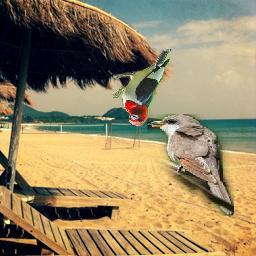Cuckoo: (148, 114, 235, 216)
Woodpecker: (114, 50, 173, 127)
